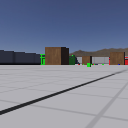blue_cube: (118, 64, 121, 66)
green_basket: (40, 54, 75, 65)
green_cube: (87, 63, 90, 66), (102, 63, 104, 65), (82, 64, 84, 65), (93, 64, 95, 65)
obstacle: (45, 46, 69, 65), (109, 52, 124, 65), (82, 56, 92, 64)
red_basket: (108, 56, 128, 65)
red_cube: (77, 63, 80, 65), (92, 64, 93, 65)
